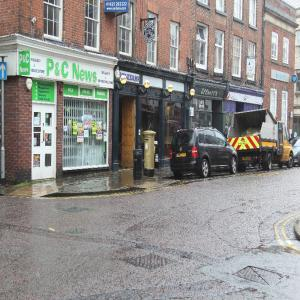Vehicle-registration-plate: (242, 156, 253, 162), (176, 154, 187, 158)
